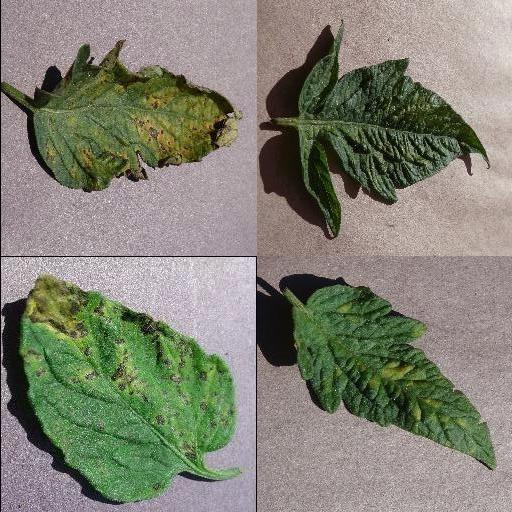Leaf Mold: (292, 285, 496, 470)
Septoria: (20, 276, 236, 501), (30, 40, 242, 193)
Spider Mites: (296, 23, 490, 237)
